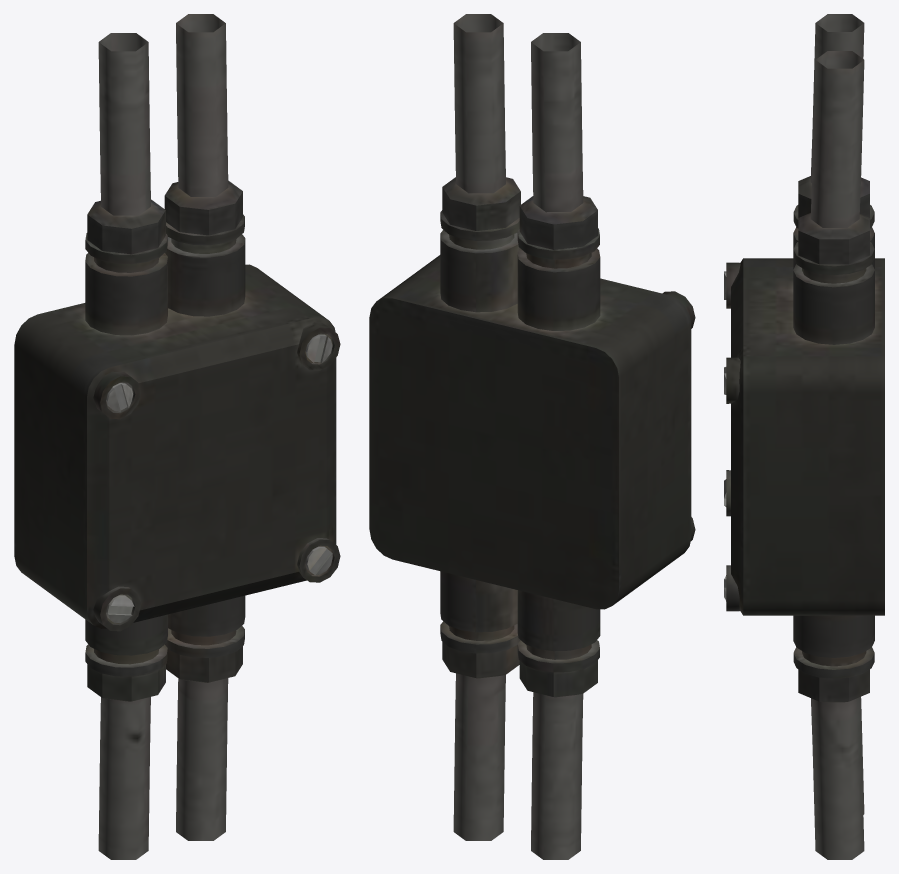
File: cable_box_double.gltf
The picture shows the model from 3 angles, left to right: view 1: azimuth 30°, elevation 25°; view 2: azimuth 150°, elevation 25°; view 3: azimuth 270°, elevation 25°; orthographic projection. The views are drawn at different scales.
Parts seen in each view (by area): view 1: cable_box_double; view 2: cable_box_double; view 3: cable_box_double.
Boxes of the visible parts, box(x1,y1,x2,y2) form: cable_box_double: box(14, 14, 340, 859); cable_box_double: box(369, 14, 695, 859); cable_box_double: box(724, 14, 884, 859).
Bounding box in the file's own units: 0.0646 × 0.2 × 0.0369.
1 material, 1 textured.
